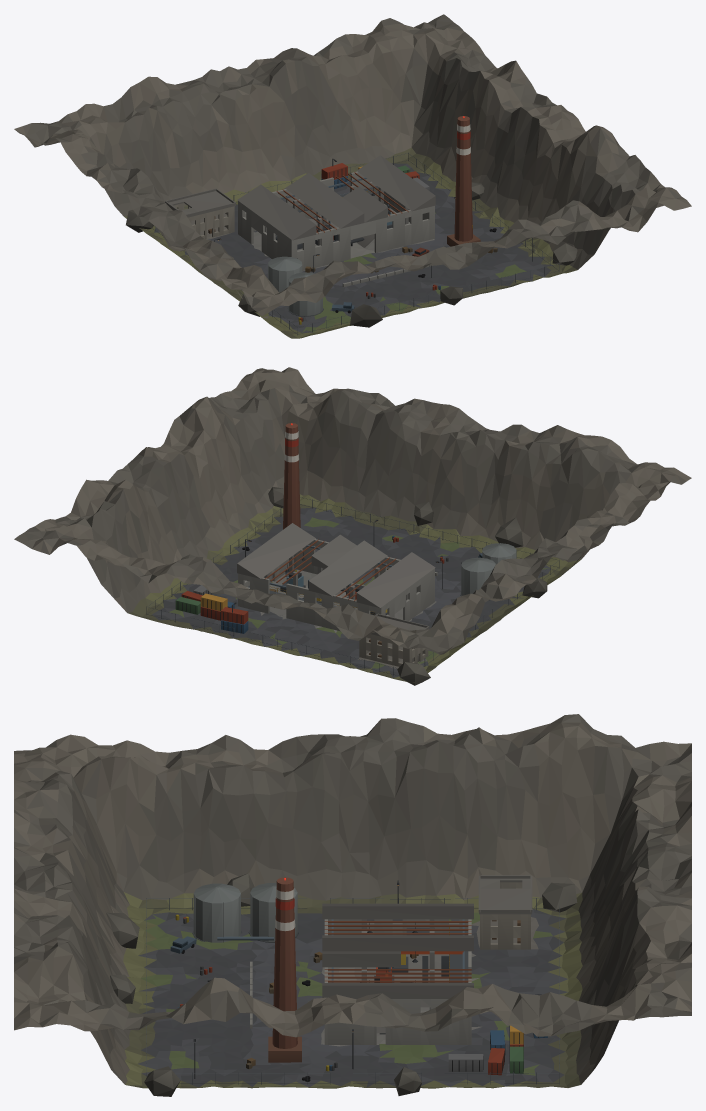
The model's file is abandoned_factory.glb.
3 renders of one model, top to bottom at view 1: azimuth 30°, elevation 25°; view 2: azimuth 150°, elevation 25°; view 3: azimuth 270°, elevation 25°, orthographic. The views are drawn at different scales.
Parts seen in each view (by area): view 1: Map_Static; view 2: Map_Static; view 3: Map_Static.
Boxes of the visible parts, bbox=[...] form: Map_Static: bbox=[14, 14, 691, 338]; Map_Static: bbox=[14, 367, 691, 685]; Map_Static: bbox=[14, 714, 691, 1096].
Size of the model in its own units: 120 by 35.19 by 120.
